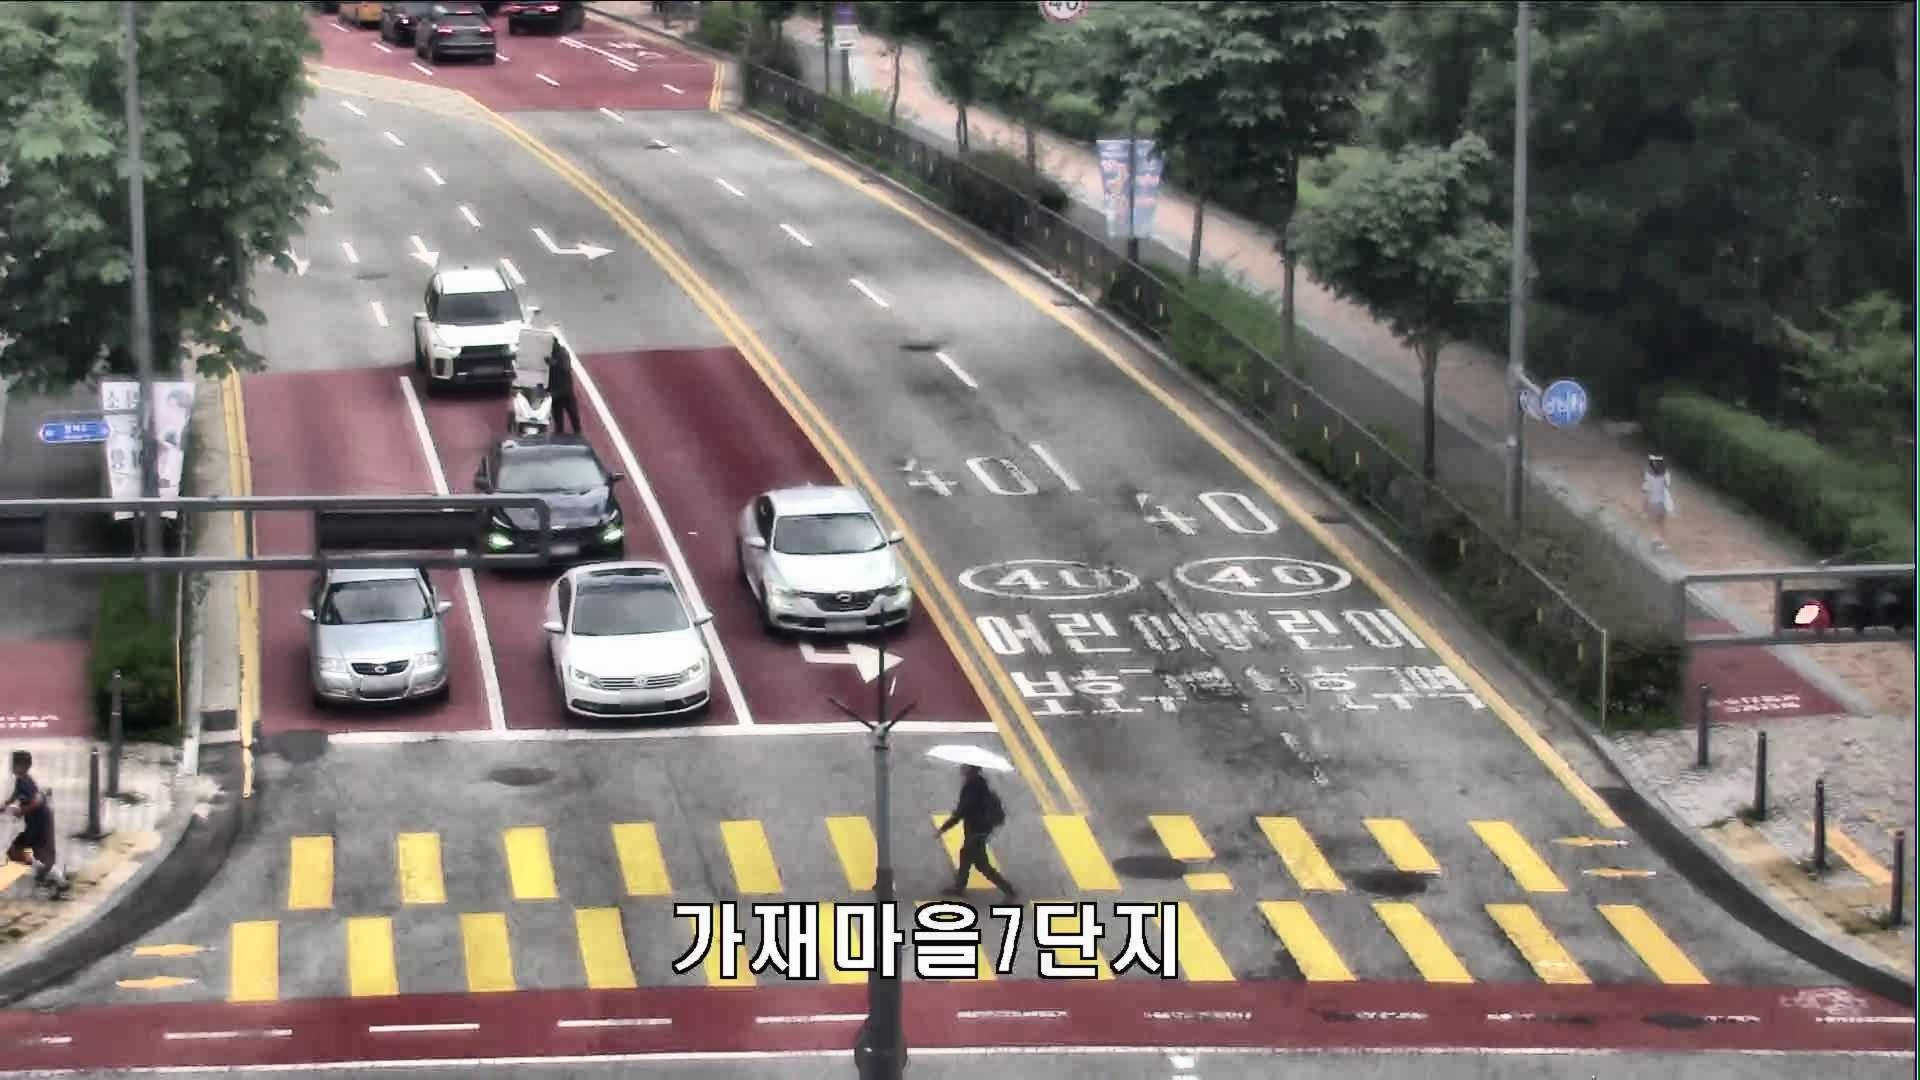jaywalk: (541, 338, 582, 436)
sidewalk: (1, 746, 70, 901), (1639, 450, 1675, 554)
um_crosswalk: (916, 738, 1021, 906)
